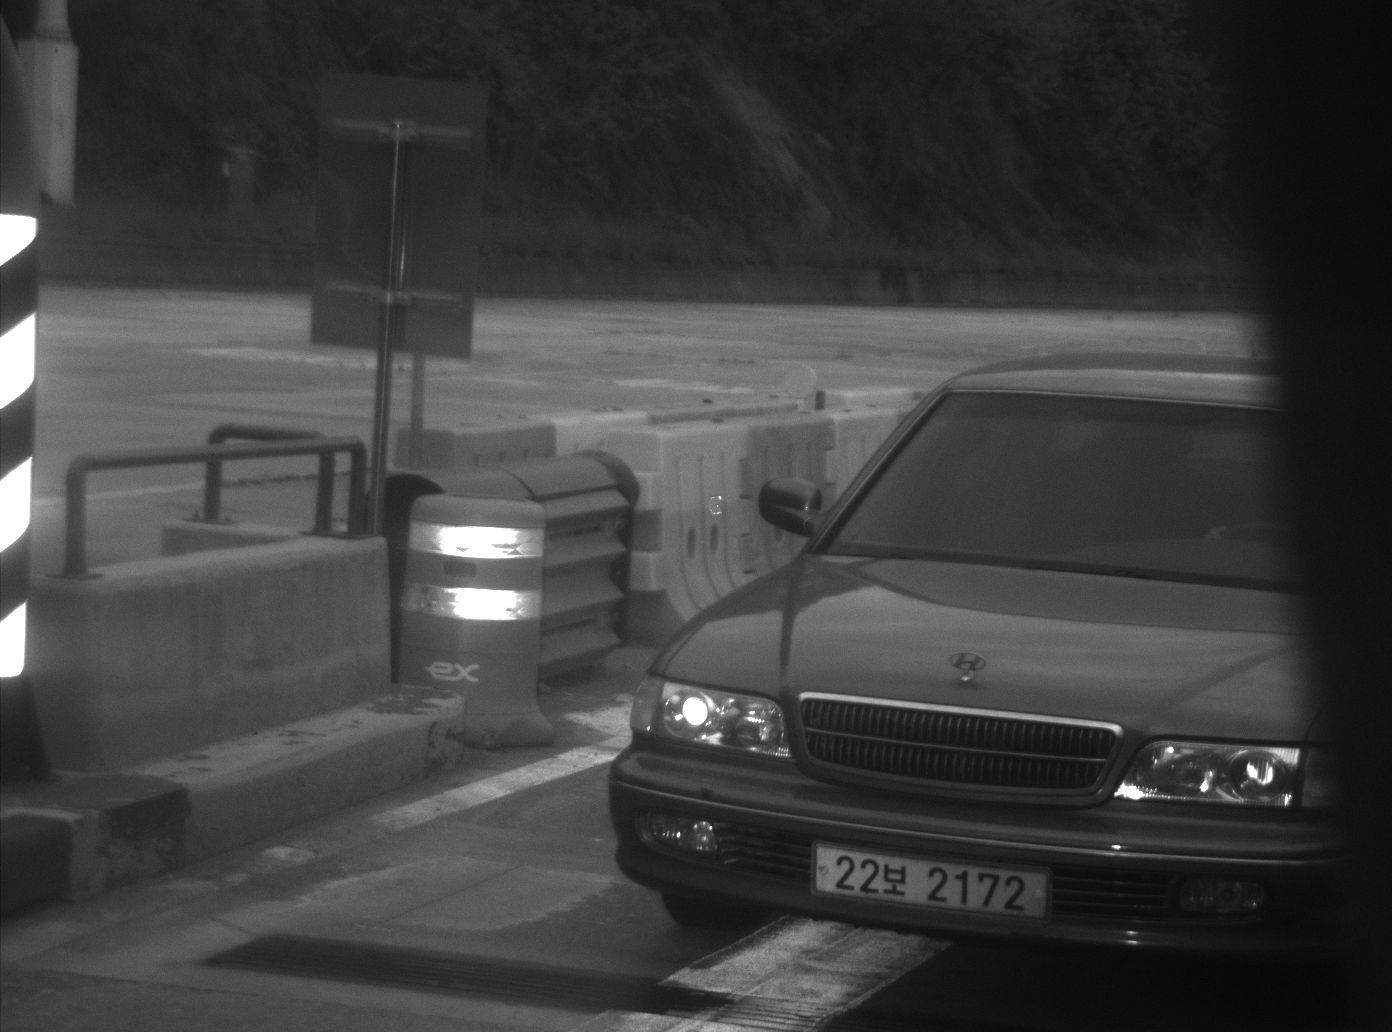car: (607, 354, 1354, 977)
plate: (805, 840, 1054, 926)
